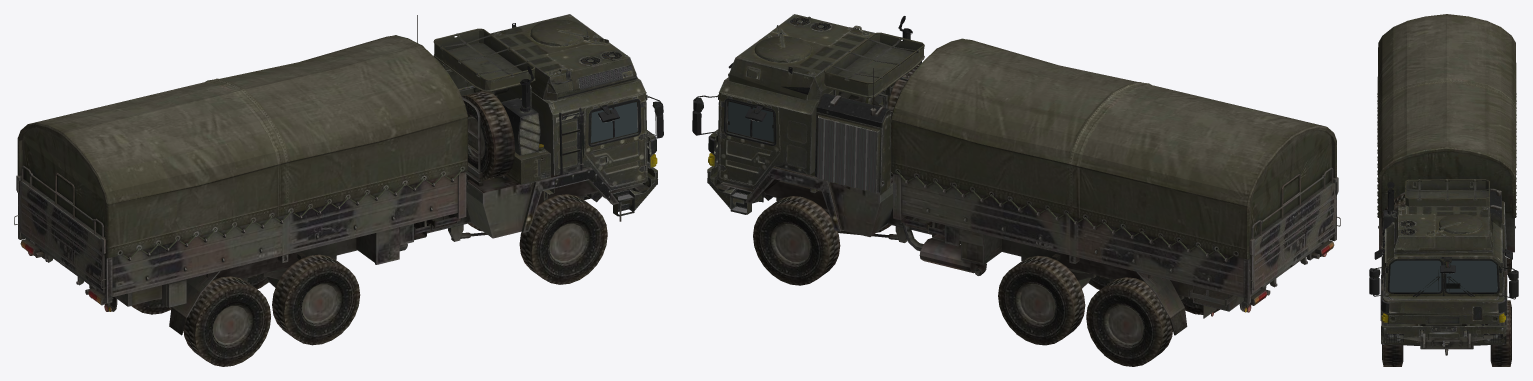
The model's file is mansv.glb.
3 views of the same model, side by side, from view 1: azimuth 30°, elevation 25°; view 2: azimuth 150°, elevation 25°; view 3: azimuth 270°, elevation 25° (orthographic). The views are drawn at different scales.
Parts seen in each view (by area): view 1: Object_4, Object_10, Object_11, Object_8; view 2: Object_4, Object_10, Object_7, Object_11; view 3: Object_4, Object_10, Object_11.
Part boxes in pixels (x1,y1,x2,y2): Object_4: (14, 15, 643, 366); Object_10: (433, 14, 663, 216); Object_11: (591, 102, 637, 142); Object_8: (579, 65, 632, 89); Object_4: (721, 38, 1340, 366); Object_10: (692, 14, 924, 214); Object_7: (817, 117, 876, 192); Object_11: (728, 101, 773, 141); Object_4: (1377, 14, 1516, 366); Object_10: (1369, 179, 1518, 346); Object_11: (1389, 260, 1497, 292).
Bounding box in the file's own units: 9.64 × 3.78 × 2.88.
Materials: 7 (6 with a texture image).
